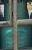cylinder: (1, 0, 32, 50)
